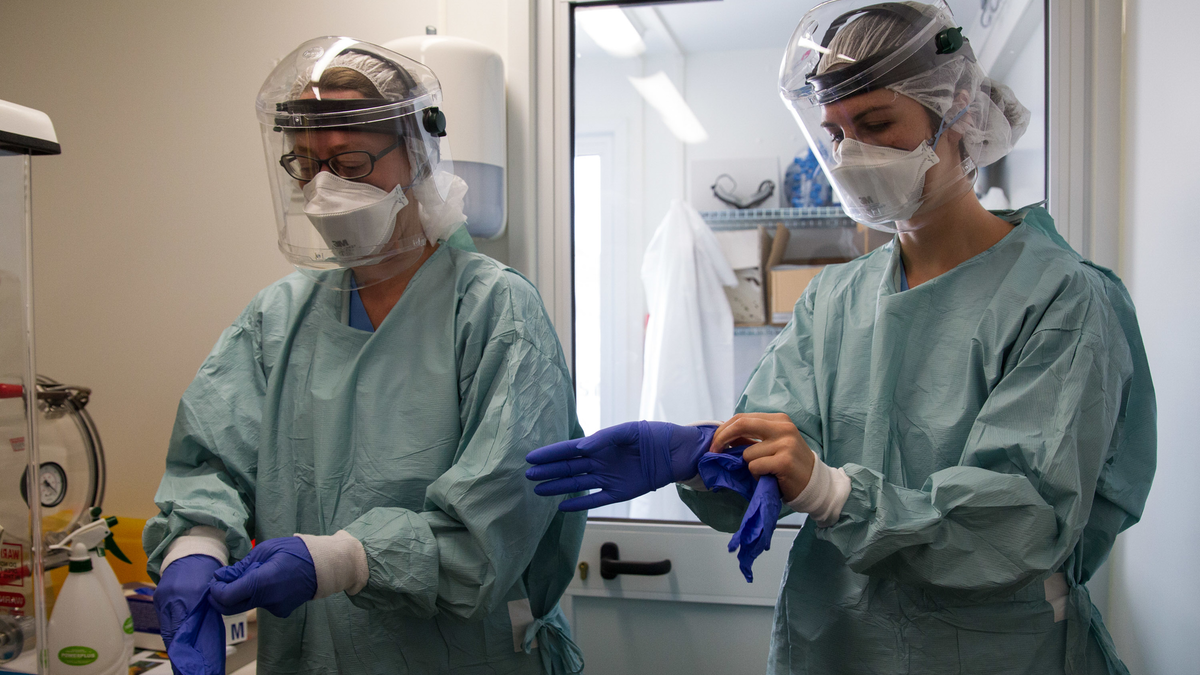Coverall: (784, 234, 1137, 666), (237, 254, 553, 675)
Gloves: (518, 409, 718, 518), (217, 528, 321, 630), (153, 562, 217, 664)
with_mask: (830, 113, 946, 227), (295, 146, 401, 267)
